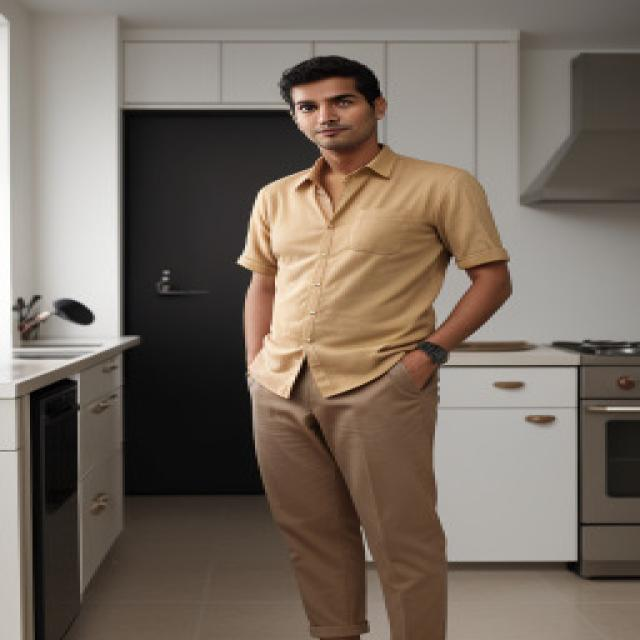Ai human 2: (209, 39, 537, 640)
